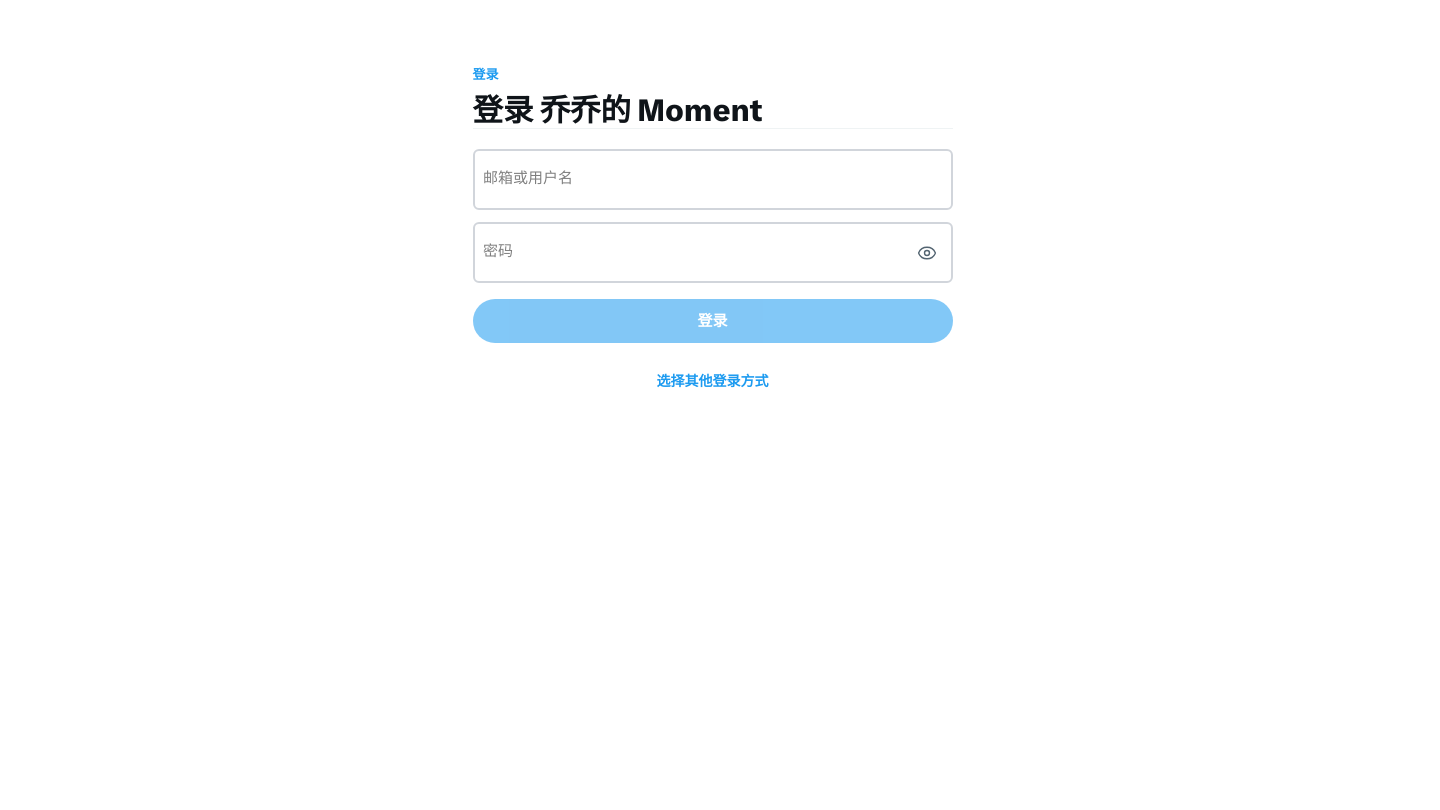
Test case: owner login names who is signing in › shows transport failures without blaming either credential field
The image size is (1440, 810).
Type "owner" into the field labelled "邮箱或用户名" at coordinates (712, 180), box [474,152,950,208]
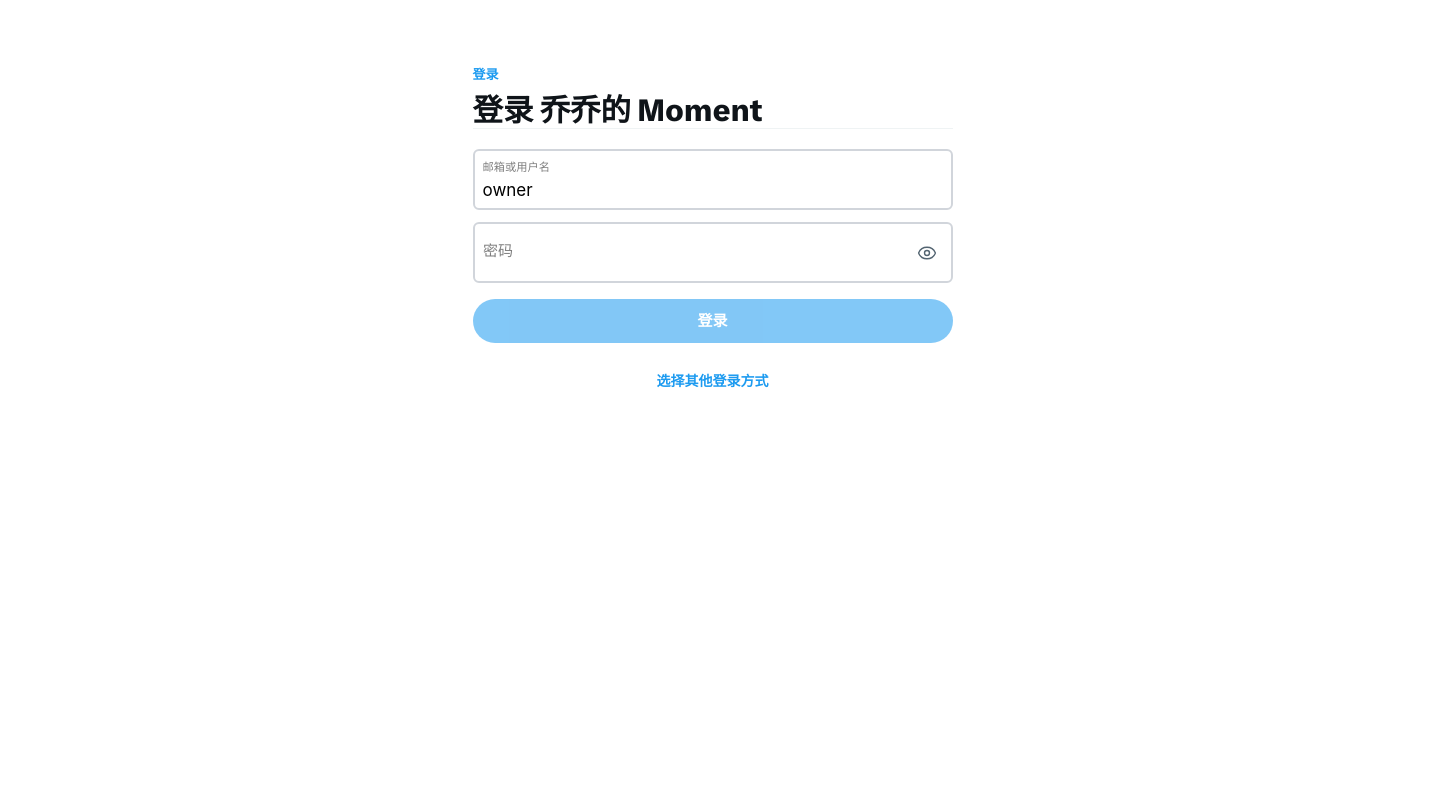
Type "password" into the password field labelled "密码" at coordinates (712, 253), box [474,224,950,281]
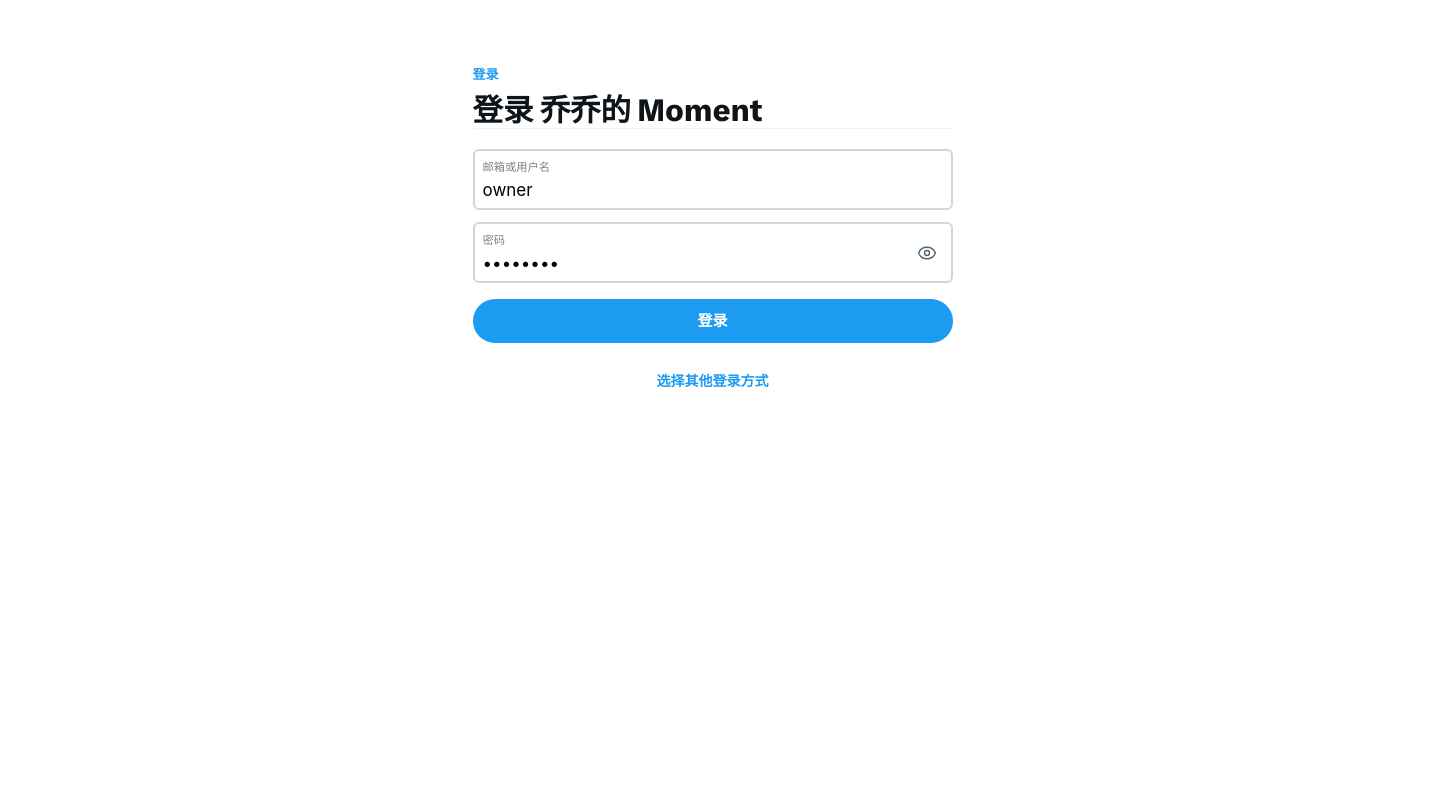
Click the button "登录" at coordinates (712, 321), box [472,299,952,343]
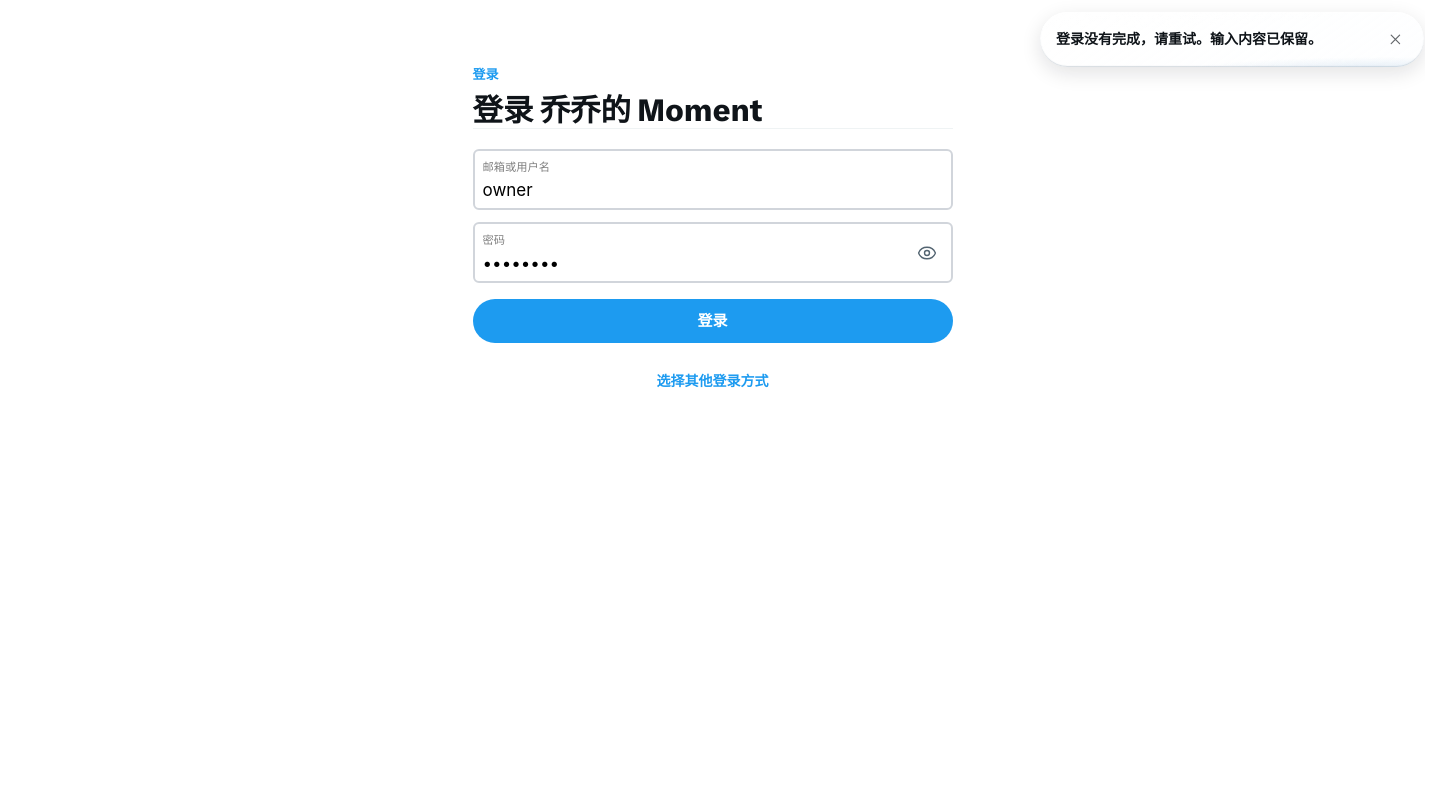
Check: the dialog shows "登录没有完成", box [1056,30,1322,47]
